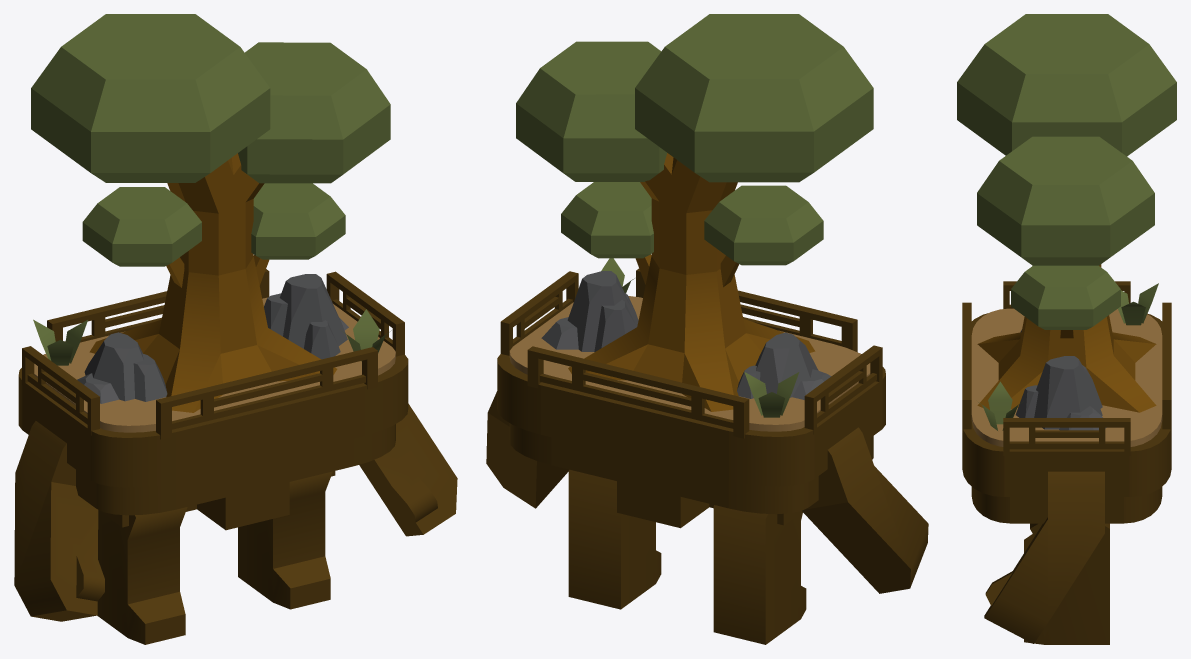
3 views of the same model, side by side, from view 1: azimuth 30°, elevation 25°; view 2: azimuth 150°, elevation 25°; view 3: azimuth 270°, elevation 25° (orthographic). The views are drawn at different scales.
Visible parts, largest first — view 1: mergedBlocks; view 2: mergedBlocks; view 3: mergedBlocks.
Part boxes in pixels (x1,y1,x2,y2): mergedBlocks: (14,14,457,644); mergedBlocks: (486,14,928,644); mergedBlocks: (957,14,1176,644).
Size of the model in its own units: 2.37 by 3.06 by 1.15.
